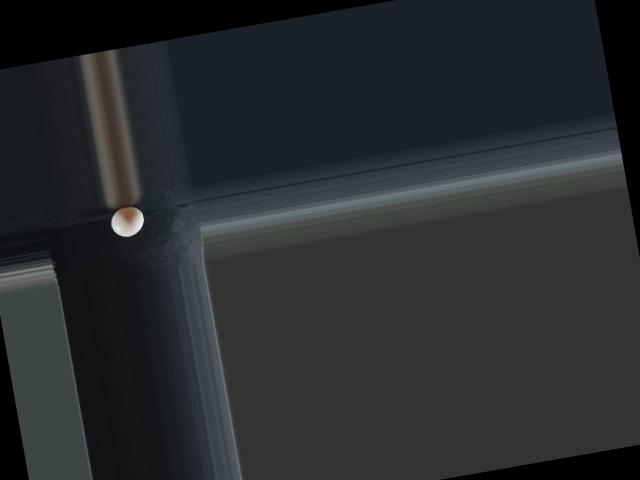egg: (109, 204, 147, 239)
